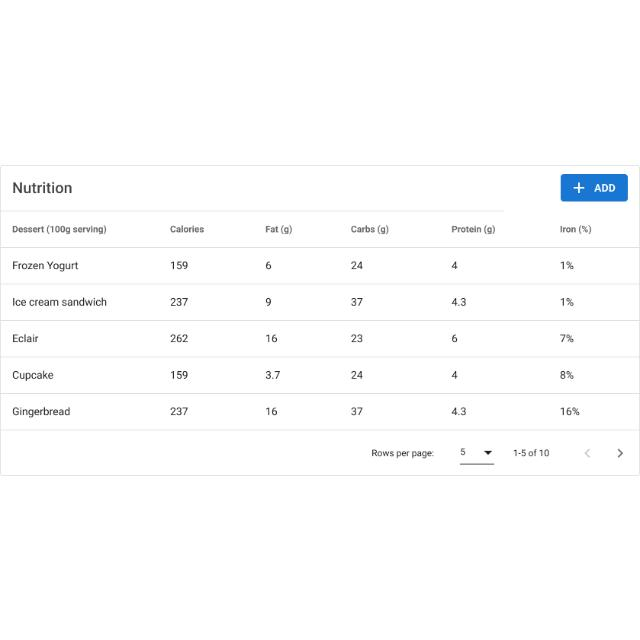QLabel: (12, 182, 72, 194), (594, 182, 616, 192)
VBtn: (560, 173, 628, 201)
VDataTable: (0, 208, 640, 476)
VIcon: (574, 181, 586, 193)
